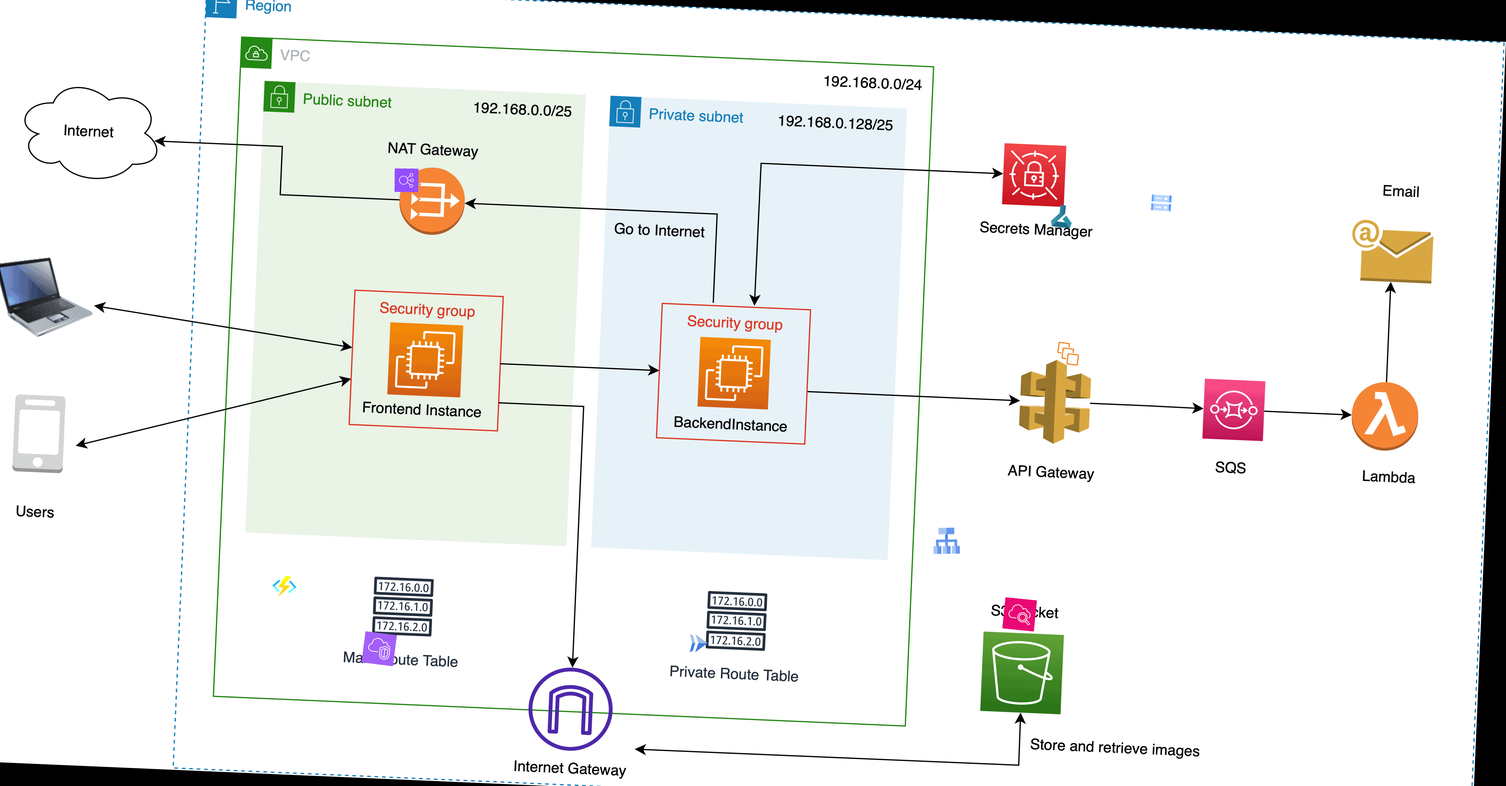aws_amazon_cloudwatch: (1002, 597, 1037, 631)
aws_amazon_virtual_private_cloud: (361, 631, 397, 667)
aws_ec2_instances: (1055, 340, 1081, 367)
aws_elastic_load_balancing: (394, 167, 419, 193)
azure_function_apps: (271, 574, 297, 599)
azure_machine_learning: (1049, 203, 1075, 229)
gcp_cloud_load_balancing: (929, 523, 964, 558)
gcp_cloud_run: (685, 630, 711, 656)
gcp_cloud_storage: (1148, 190, 1174, 215)
